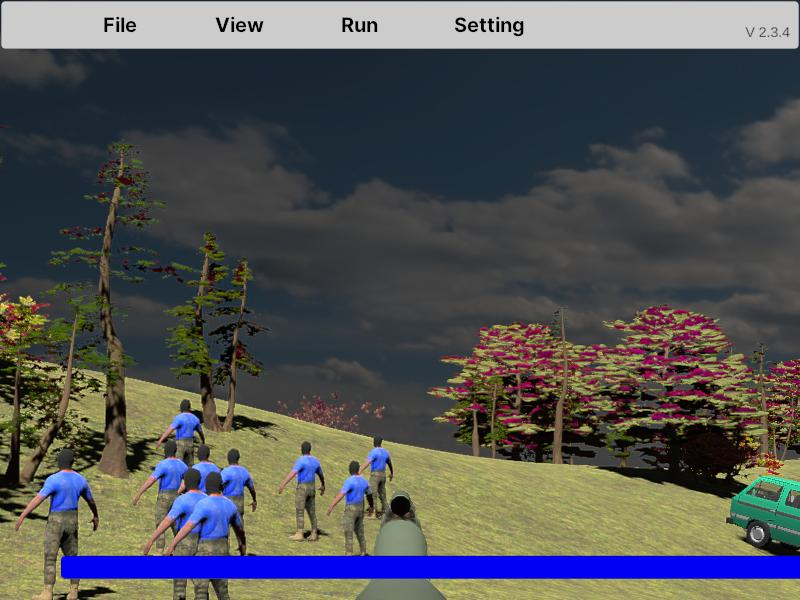Human: (16, 448, 99, 599), (163, 470, 247, 600), (133, 439, 207, 559), (199, 446, 257, 566), (327, 461, 376, 566), (278, 441, 325, 542), (157, 399, 206, 489), (357, 435, 394, 523)
car: (727, 475, 800, 576)
